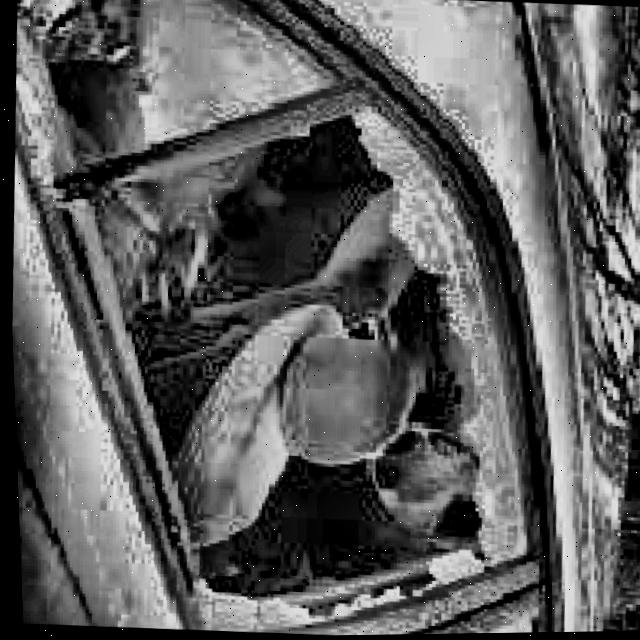glass_shatter: (188, 361, 509, 637), (101, 160, 446, 367), (203, 86, 438, 177)
